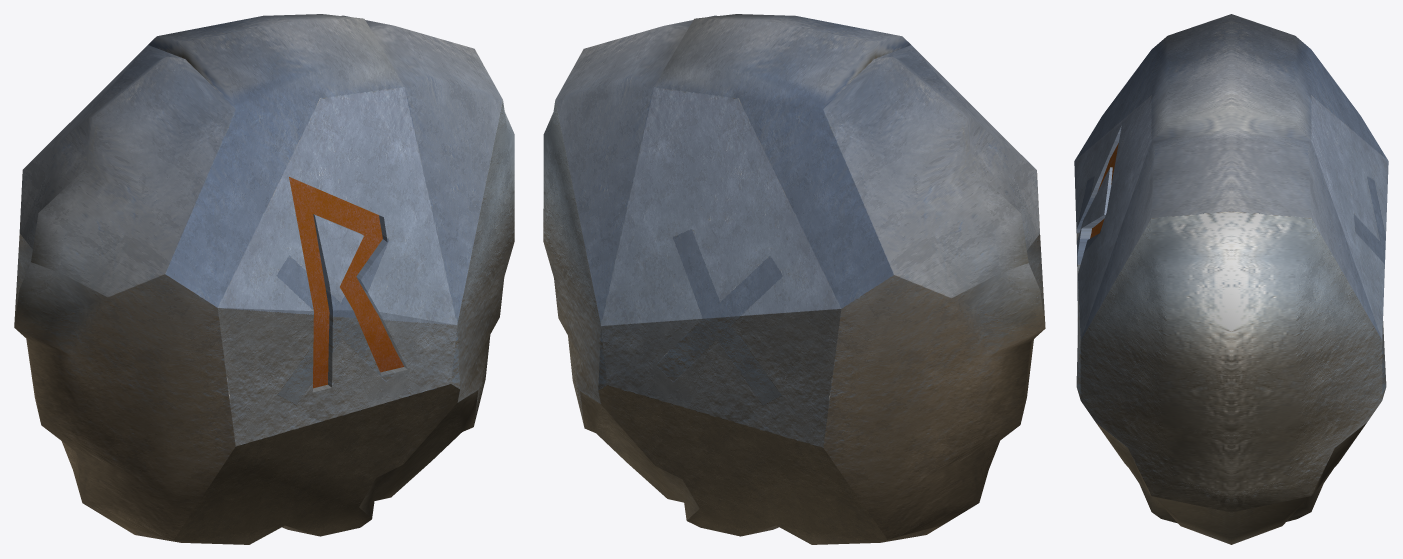
Rendered from Slam_Uriel.fbx.
The picture shows the model from 3 angles, left to right: view 1: azimuth 30°, elevation 25°; view 2: azimuth 150°, elevation 25°; view 3: azimuth 270°, elevation 25°; orthographic projection. The views are drawn at different scales.
Parts seen in each view (by area): view 1: Q_Uriel's Revenge; view 2: Q_Uriel's Revenge; view 3: Q_Uriel's Revenge.
Boxes of the visible parts, x1,y1,x2,y2 form: Q_Uriel's Revenge: (14,14,514,544); Q_Uriel's Revenge: (543,14,1045,544); Q_Uriel's Revenge: (1074,14,1388,544).
Bounding box in the file's own units: 60.15 × 60.84 × 37.36.
Materials: 1 (1 with a texture image).
